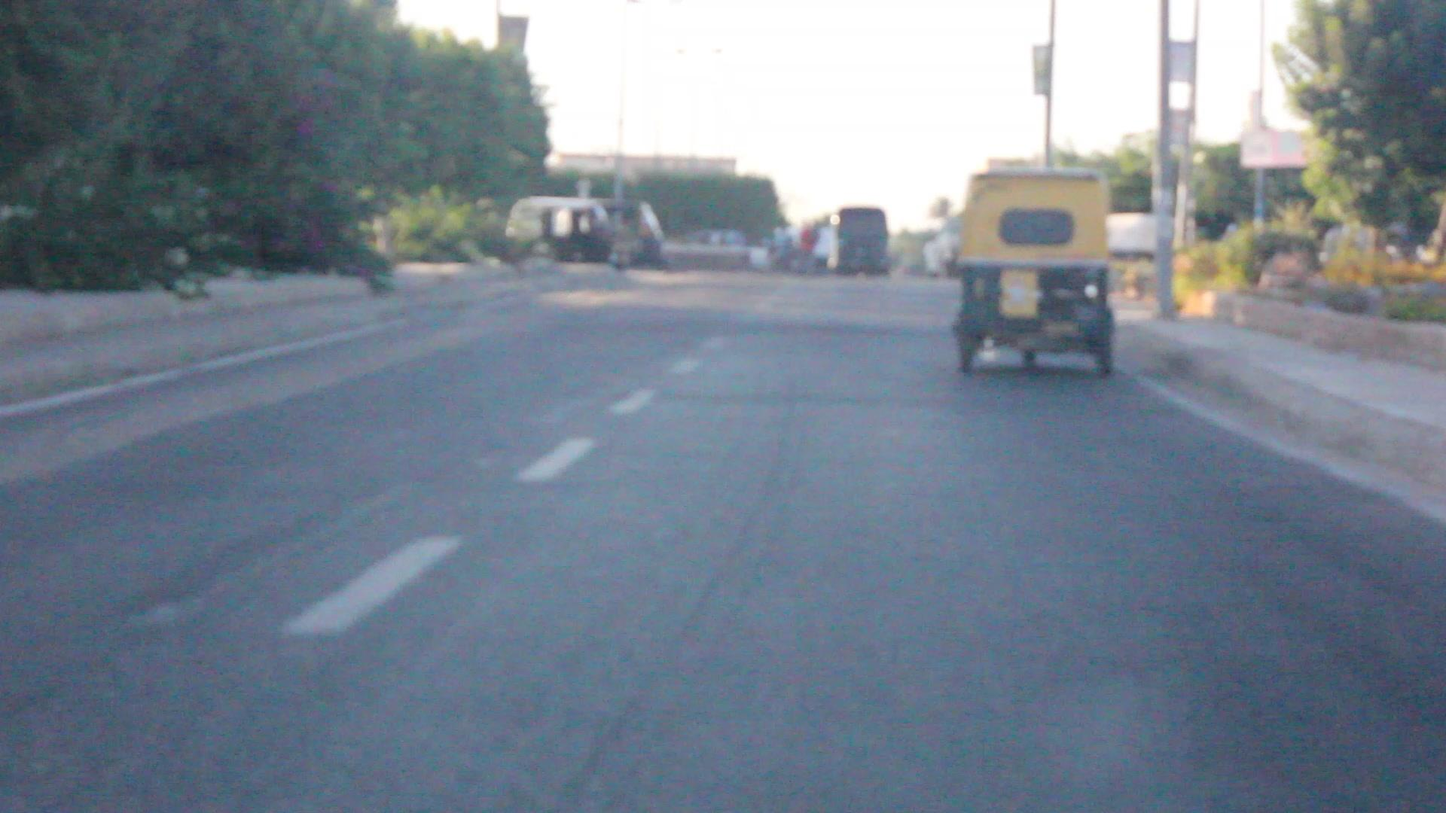Bump: (419, 301, 960, 338)
